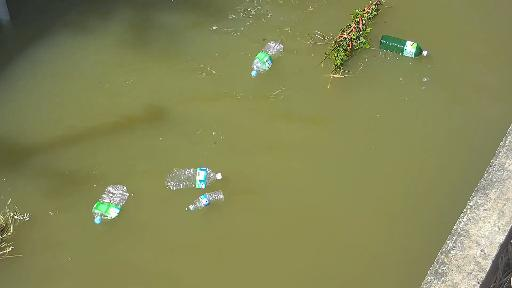plastic: (163, 192, 233, 221), (76, 186, 130, 223), (157, 168, 243, 190), (243, 37, 287, 68), (377, 31, 424, 57)
twig: (311, 0, 382, 82), (0, 193, 27, 261)
